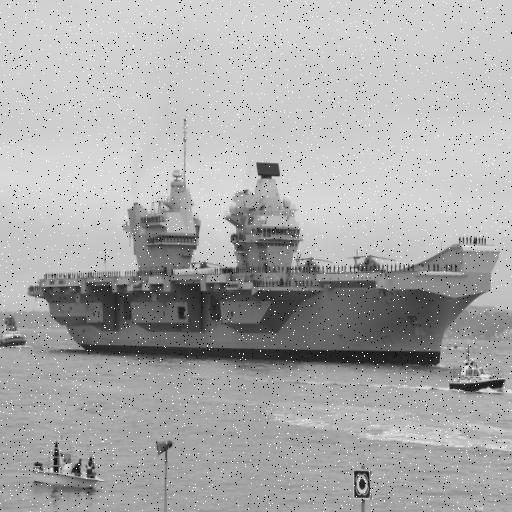Portanaves: (20, 128, 508, 362)
